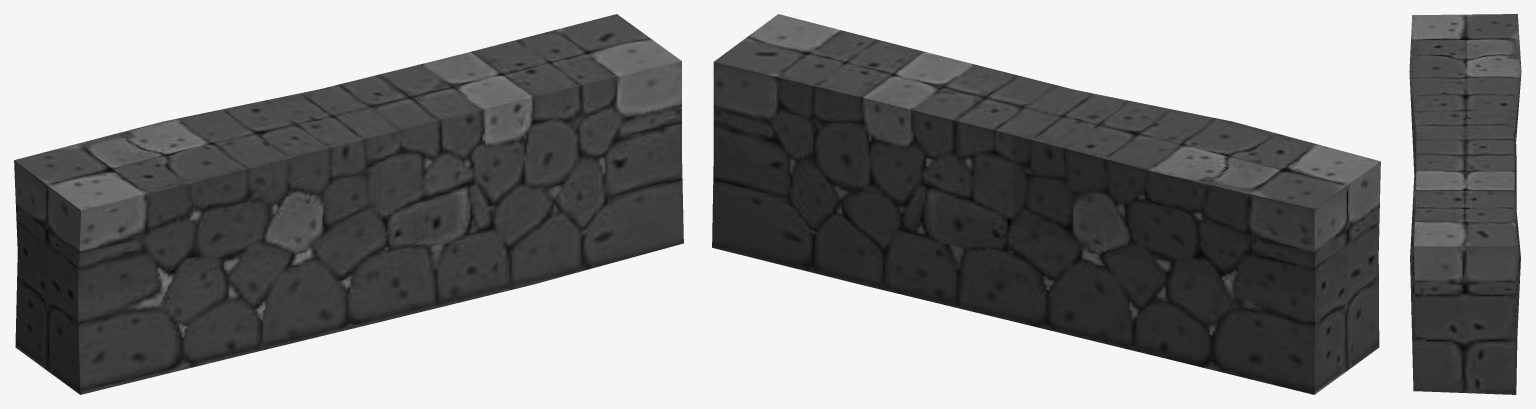
Rendered from wall-far.glb.
The picture shows the model from 3 angles, left to right: view 1: azimuth 30°, elevation 25°; view 2: azimuth 150°, elevation 25°; view 3: azimuth 270°, elevation 25°; orthographic projection. The views are drawn at different scales.
Visible parts, largest first — view 1: wall_far; view 2: wall_far; view 3: wall_far.
Boxes of the visible parts, x1,y1,x2,y2 form: wall_far: (14,14,683,394); wall_far: (712,14,1380,394); wall_far: (1409,14,1521,394).
Bounding box in the file's own units: 0.958 × 0.2841 × 0.1945.
1 material, 1 textured.
